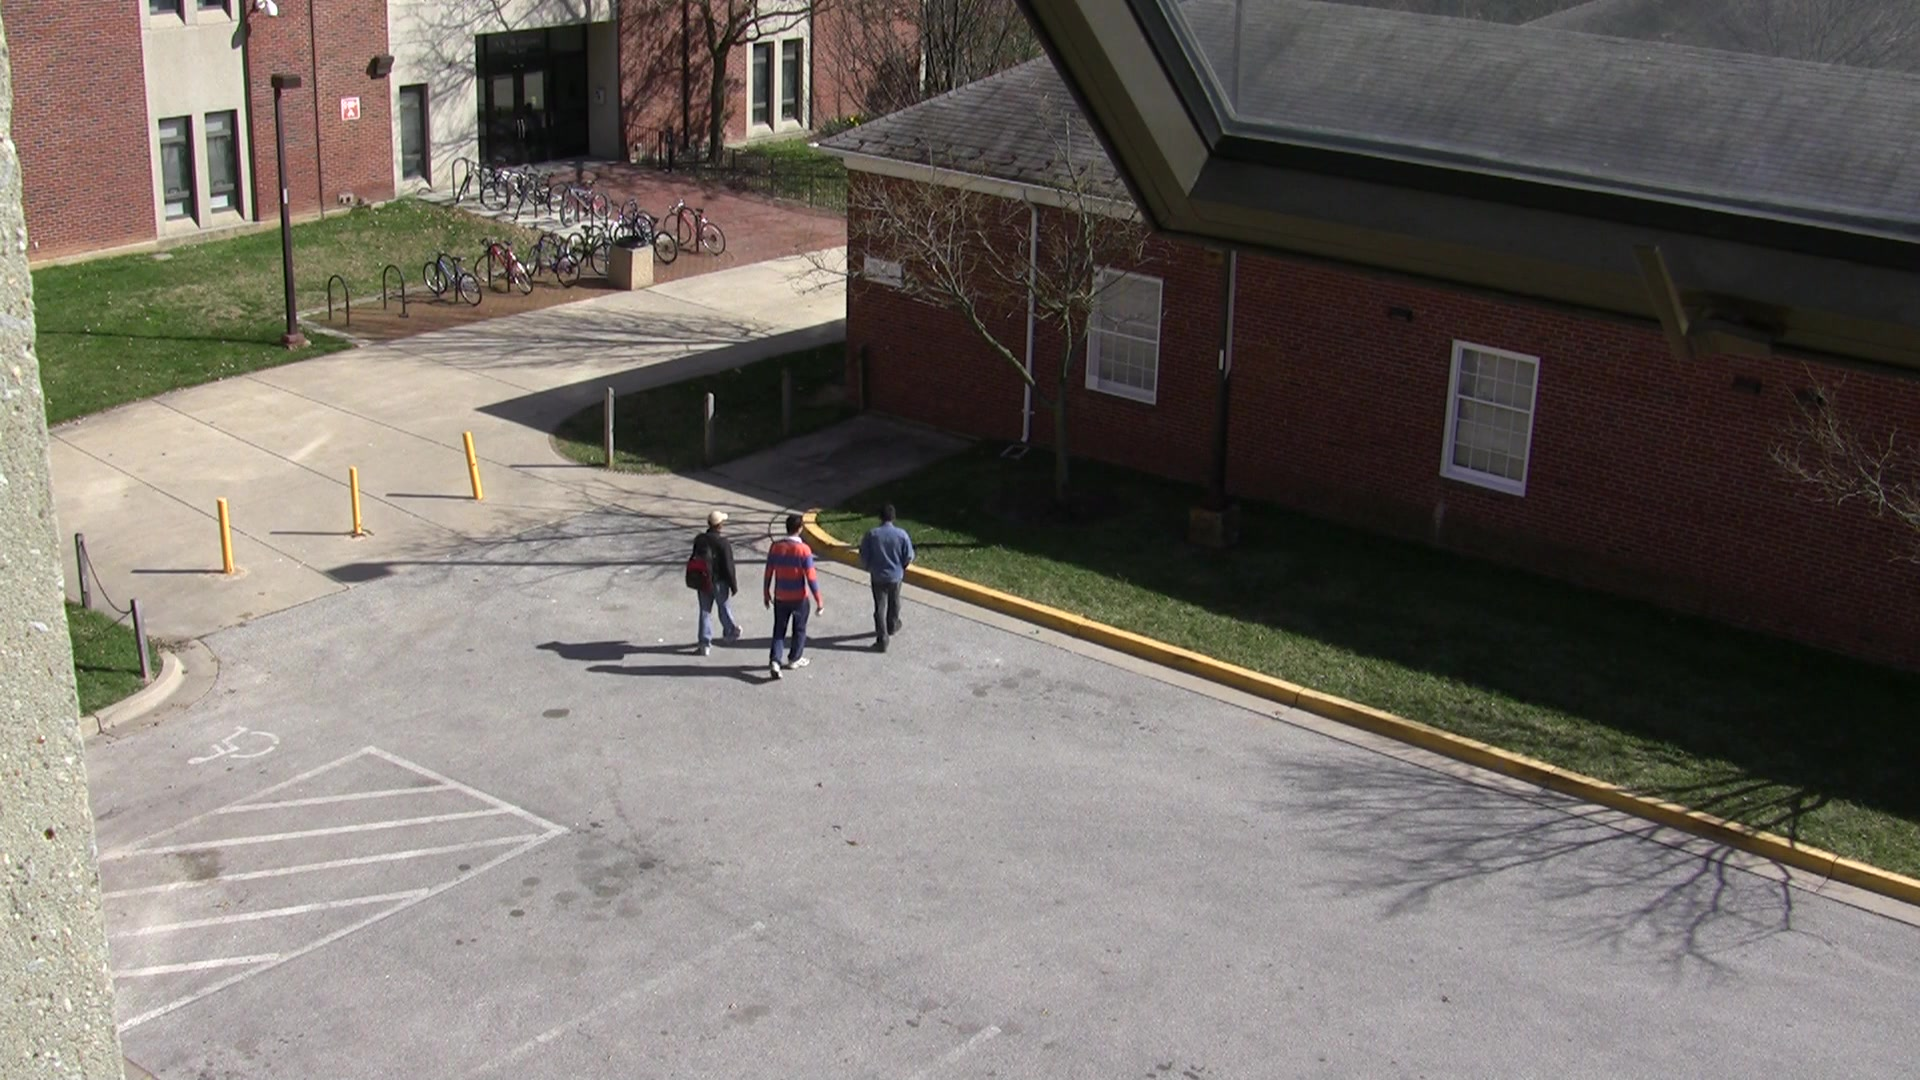person: (673, 499, 754, 661), (750, 515, 823, 688), (850, 501, 915, 657)
